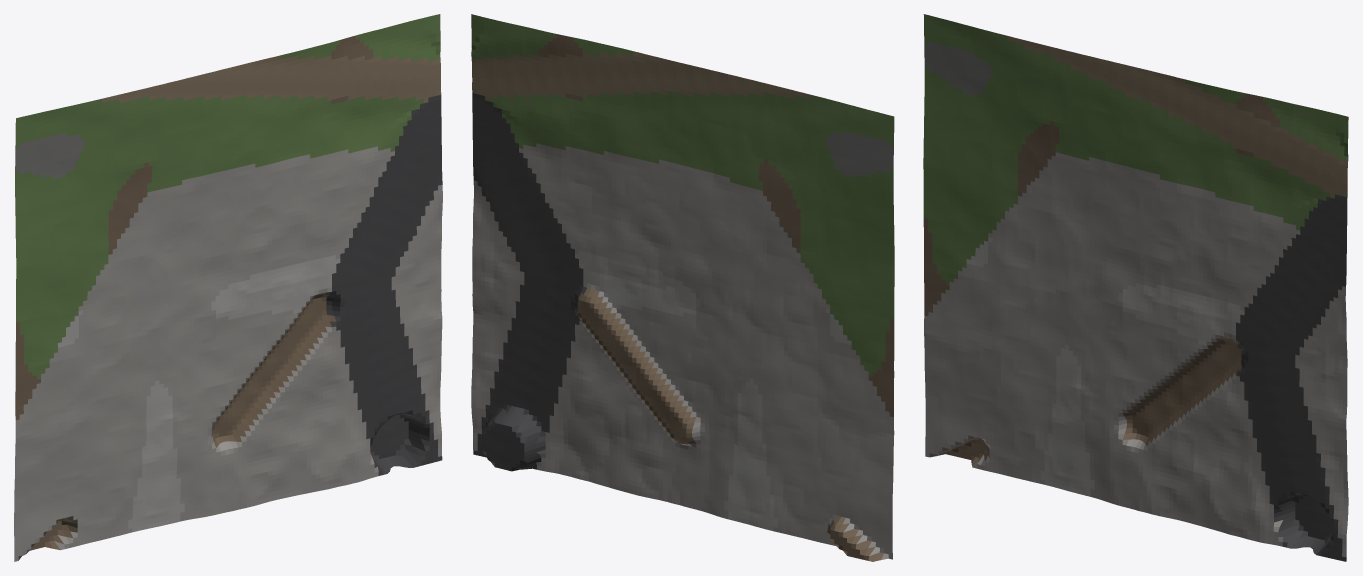
File: SARM_SAR_Terrain_02_03.glb
The picture shows the model from 3 angles, left to right: view 1: azimuth 30°, elevation 25°; view 2: azimuth 150°, elevation 25°; view 3: azimuth 330°, elevation 25°; orthographic projection.
Visible parts, largest first — view 1: SAR_Terrain_02_03.001; view 2: SAR_Terrain_02_03.001; view 3: SAR_Terrain_02_03.001.
Part boxes in pixels (bbox=[...]): SAR_Terrain_02_03.001: bbox=[14, 14, 442, 561]; SAR_Terrain_02_03.001: bbox=[471, 14, 894, 561]; SAR_Terrain_02_03.001: bbox=[923, 14, 1348, 561].
Bounding box in the file's own units: 50 × 50 × 2.97.
